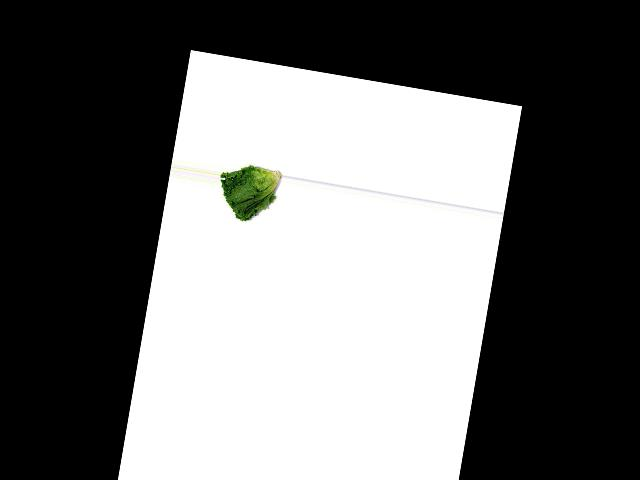lettuce: (213, 156, 285, 231)
